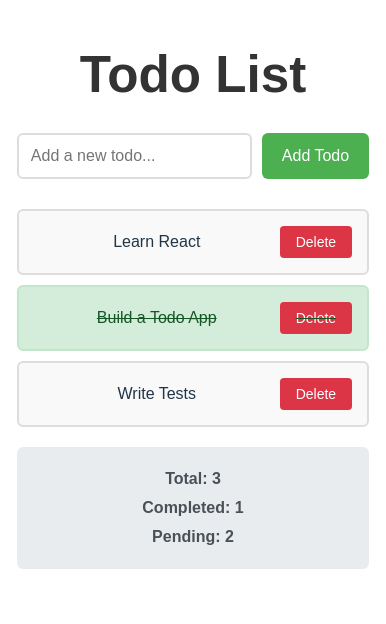
Test: TodoList Component › handles form submission with enter key
# Type and submit with enter
Type "Todo with Enter" into the field with test id "todo-input". click: [134, 156]
box: x1=17 y1=133 x2=252 y2=179
Then press Enter
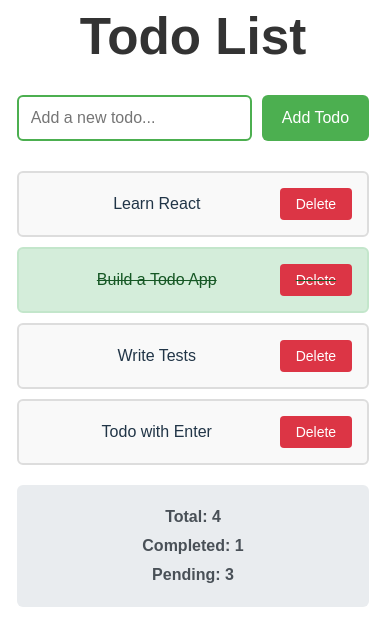
Result: the text "Todo with Enter" is shown at x1=102 y1=423 x2=212 y2=440
